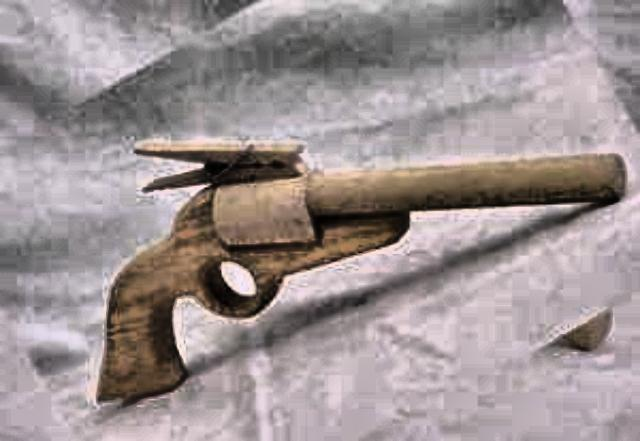pistol: (79, 130, 627, 396)
